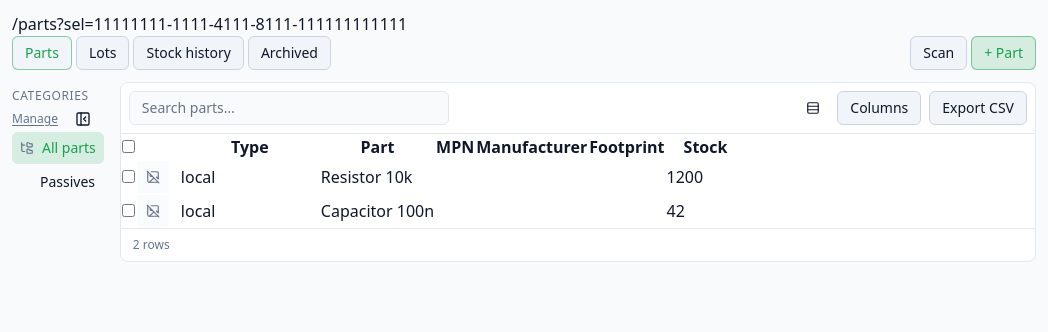
it: preview breakpoint follows the rail › collapsing the rail at lg reveals a pane the deep link already asked for
Click the button named "Hide categories". click: point(83, 119)
box: [66,106,100,132]
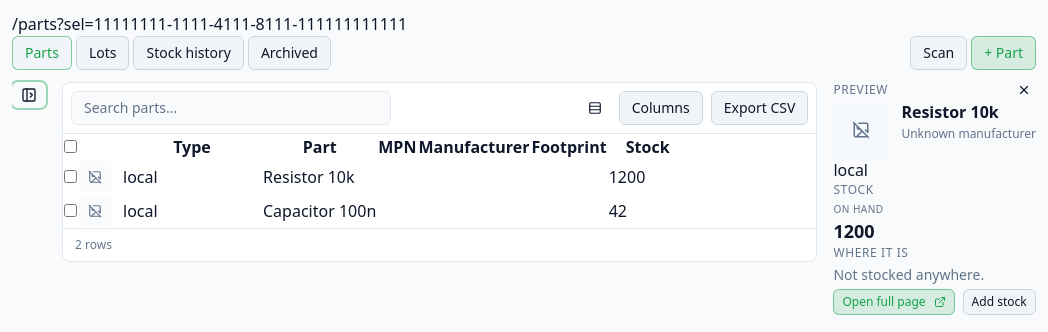
Check: the element with test id "part-preview-pane" is shown, box [833,82,1036,315]
